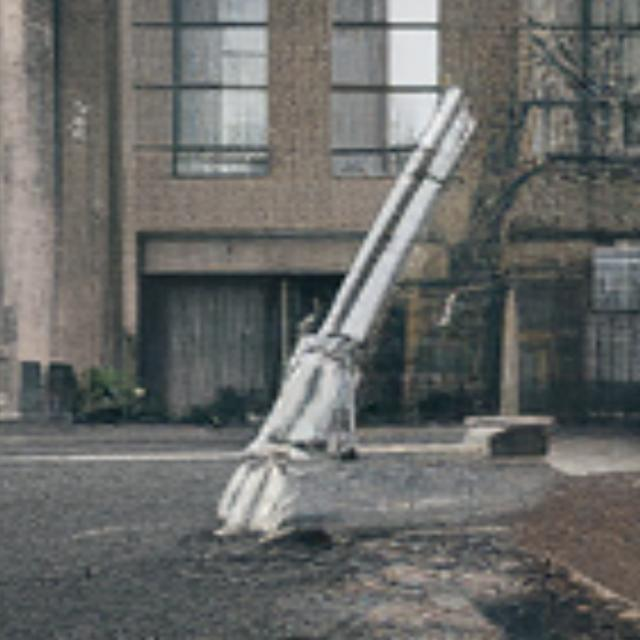Inclined Pole: (210, 81, 473, 546)
